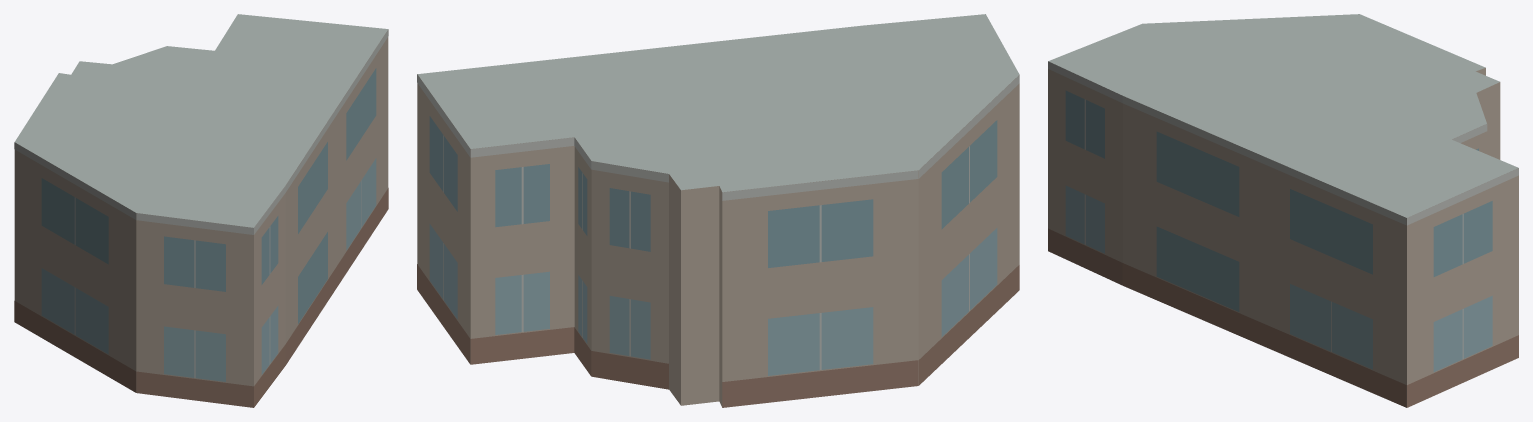
The model's file is survey-upis-32810942.glb.
3 renders of one model, left to right at view 1: azimuth 30°, elevation 25°; view 2: azimuth 150°, elevation 25°; view 3: azimuth 270°, elevation 25°, orthographic. The views are drawn at different scales.
Visible parts, largest first — view 1: survey-upis-32810942.tmp; view 2: survey-upis-32810942.tmp; view 3: survey-upis-32810942.tmp.
Part boxes in pixels (x1,y1,x2,y2): survey-upis-32810942.tmp: (14,14,388,407); survey-upis-32810942.tmp: (417,14,1019,407); survey-upis-32810942.tmp: (1048,14,1518,407).
Size of the model in its own units: 14.06 by 6.1 by 13.71.
